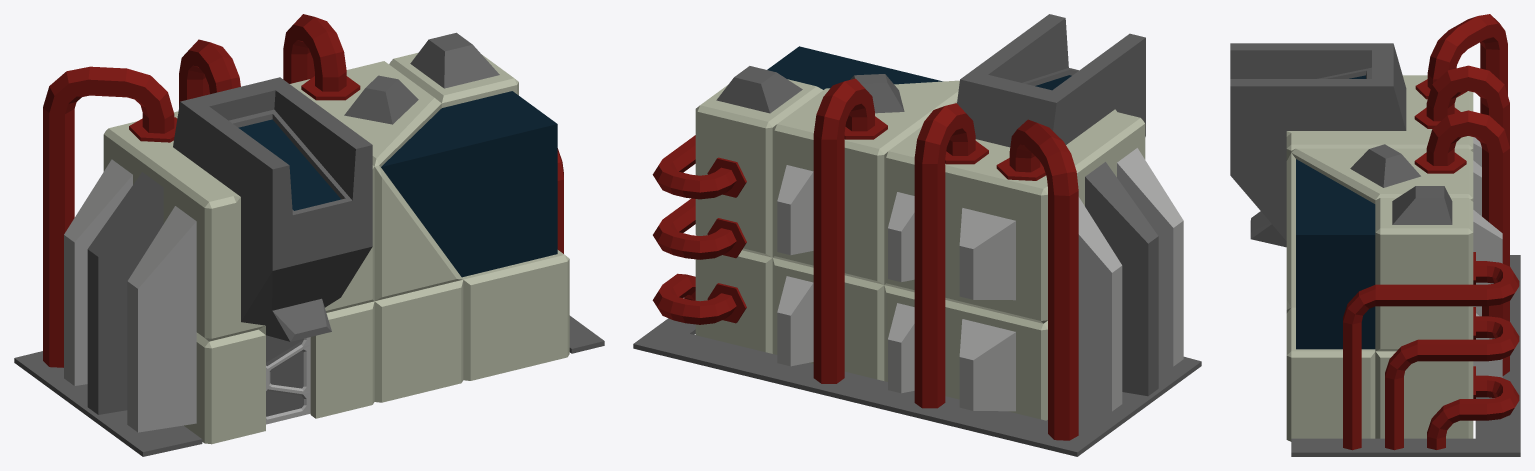
3 views of the same model, side by side, from view 1: azimuth 30°, elevation 25°; view 2: azimuth 150°, elevation 25°; view 3: azimuth 270°, elevation 25° (orthographic). The views are drawn at different scales.
Visible parts, largest first — view 1: H_10X5X5; view 2: H_10X5X5; view 3: H_10X5X5.
Boxes of the visible parts, x1=… form: H_10X5X5: x1=14, y1=14, x2=604, y2=456; H_10X5X5: x1=633, y1=14, x2=1201, y2=456; H_10X5X5: x1=1230, y1=14, x2=1520, y2=456.
Bounding box in the file's own units: 1000 × 626 × 620.
